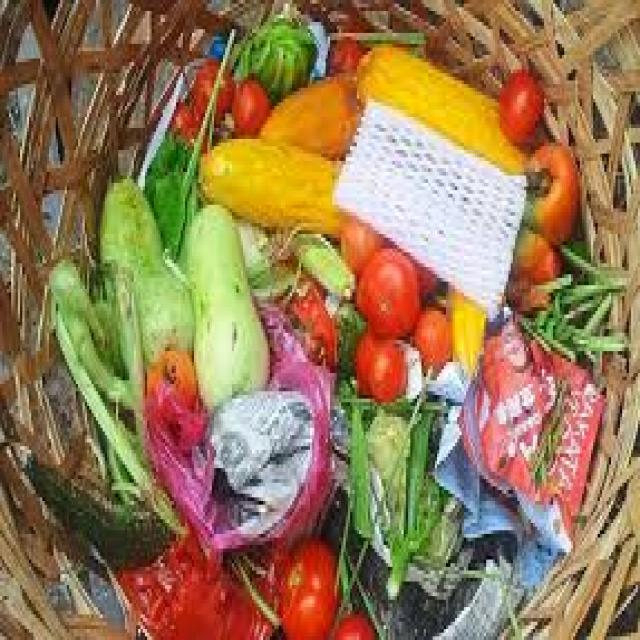food_waste: (255, 74, 521, 601), (115, 228, 581, 520)
